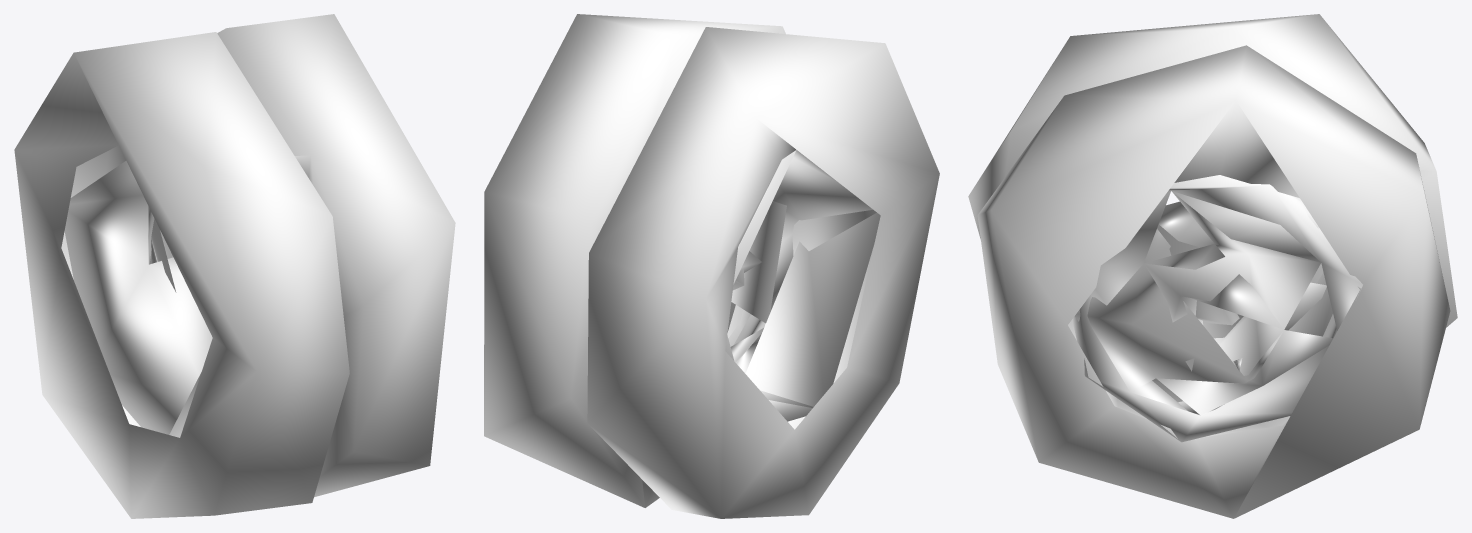
The picture shows the model from 3 angles, left to right: view 1: azimuth 30°, elevation 25°; view 2: azimuth 150°, elevation 25°; view 3: azimuth 270°, elevation 25°; orthographic projection. The views are drawn at different scales.
Bounding box in the file's own units: 0.6327 × 1.06 × 1.06.
1 material, 1 textured.
